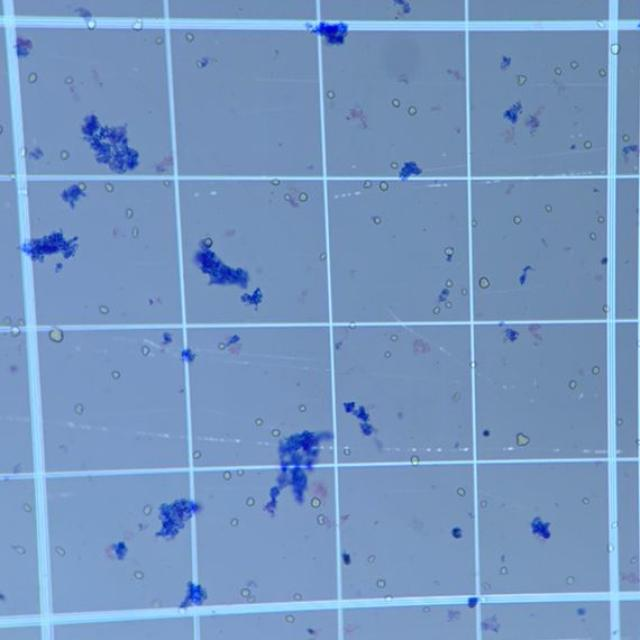Cell: (49, 328, 64, 343), (516, 432, 530, 447), (11, 544, 26, 555), (449, 391, 462, 403), (478, 277, 490, 289), (516, 74, 528, 86), (444, 247, 454, 261), (310, 497, 322, 508), (132, 19, 143, 31), (18, 187, 30, 198), (245, 580, 258, 590), (318, 252, 331, 262), (55, 546, 66, 557), (10, 326, 21, 337), (202, 237, 213, 248), (142, 504, 152, 516), (98, 304, 110, 314), (74, 403, 84, 415), (316, 514, 326, 525), (133, 570, 144, 580), (104, 182, 114, 193), (28, 72, 38, 83), (1, 316, 12, 326), (9, 171, 19, 182), (77, 181, 88, 191), (362, 179, 373, 189), (216, 341, 226, 352), (87, 18, 96, 30), (19, 146, 28, 158), (432, 305, 442, 315), (568, 380, 578, 390), (271, 428, 281, 438), (379, 181, 389, 191), (456, 487, 466, 497), (111, 370, 121, 380), (241, 588, 251, 598), (372, 215, 382, 225), (140, 346, 150, 356), (298, 192, 308, 202), (285, 614, 295, 624), (391, 98, 401, 108), (407, 106, 417, 116), (60, 150, 70, 160), (185, 32, 195, 42), (151, 598, 161, 608), (610, 44, 620, 54), (9, 364, 19, 374), (12, 463, 22, 473), (553, 66, 563, 76), (596, 215, 606, 225), (467, 510, 477, 520), (482, 581, 492, 591), (125, 208, 134, 219), (16, 318, 27, 327), (459, 287, 468, 298), (479, 499, 488, 510), (132, 226, 140, 238), (499, 566, 508, 576), (246, 497, 255, 507), (367, 554, 376, 564), (376, 579, 386, 588), (254, 418, 264, 427), (326, 90, 335, 100), (410, 455, 419, 465), (570, 60, 579, 70), (283, 192, 292, 202), (162, 179, 172, 188), (236, 467, 245, 477), (422, 604, 432, 613), (223, 471, 232, 480), (445, 279, 454, 288), (298, 404, 307, 413), (23, 503, 32, 512), (591, 366, 600, 375), (389, 161, 398, 170), (566, 576, 575, 585), (629, 556, 638, 565), (247, 594, 256, 603), (193, 450, 201, 460), (292, 593, 302, 601), (584, 140, 592, 150), (343, 446, 351, 456), (64, 76, 74, 84), (469, 219, 479, 227), (230, 518, 238, 527), (390, 334, 399, 342), (544, 204, 552, 213), (271, 178, 280, 186), (598, 68, 606, 77), (155, 36, 163, 45), (621, 134, 630, 142), (582, 497, 590, 505), (513, 216, 521, 224), (589, 232, 597, 240), (616, 418, 624, 426), (611, 520, 619, 528), (384, 594, 392, 602), (445, 301, 453, 309), (469, 361, 476, 369), (348, 322, 356, 329), (596, 21, 604, 28), (384, 351, 392, 358), (480, 596, 487, 604), (500, 554, 506, 563), (602, 304, 608, 312), (608, 544, 614, 552)
